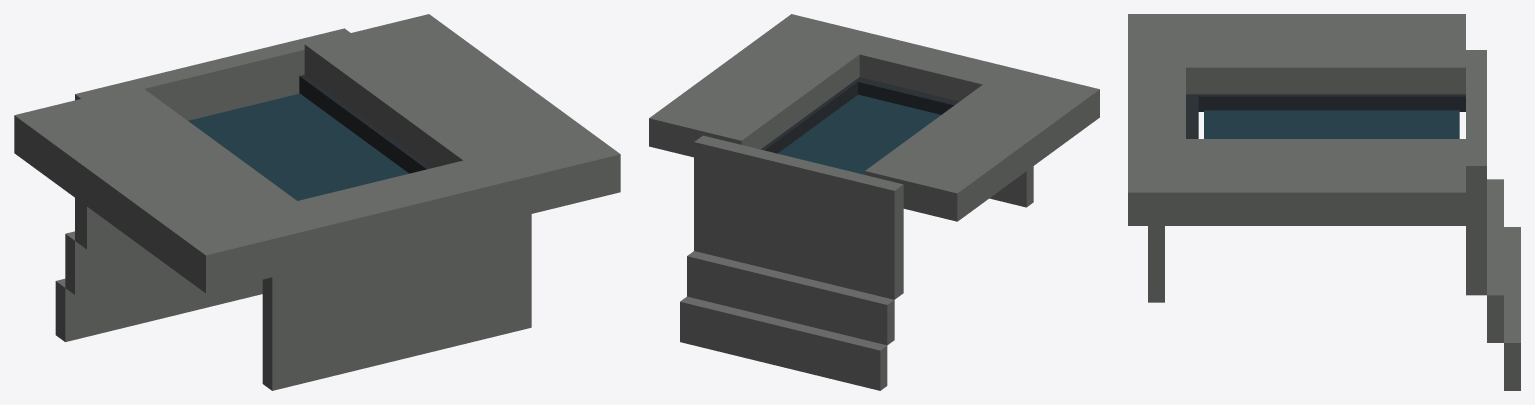
The model's file is PanelEntrance_LOD1.obj.
3 views of the same model, side by side, from view 1: azimuth 30°, elevation 25°; view 2: azimuth 150°, elevation 25°; view 3: azimuth 270°, elevation 25° (orthographic). The views are drawn at different scales.
Visible parts, largest first — view 1: wall_left, wall_right, canopy, door, lintel, landing, step2, step1, door_frame_right; view 2: landing, wall_left, wall_right, step2, step1, door, lintel, door_frame_top, door_frame_right, canopy; view 3: wall_right, wall_left, door, landing, door_frame_left, lintel, step1, step2, canopy, door_frame_top.
Boxes of the visible parts, x1,y1,x2,y2 form: wall_left: [14, 85, 330, 293]; wall_right: [304, 14, 620, 222]; canopy: [262, 214, 531, 390]; door: [188, 93, 408, 200]; lintel: [298, 160, 496, 262]; landing: [75, 28, 350, 249]; step2: [55, 270, 262, 341]; step1: [65, 231, 173, 294]; door_frame_right: [299, 75, 431, 173]; landing: [694, 135, 903, 299]; wall_left: [865, 66, 1099, 221]; wall_right: [649, 14, 883, 157]; step2: [680, 296, 887, 390]; step1: [687, 251, 894, 345]; door: [778, 94, 940, 174]; lintel: [859, 36, 1006, 101]; door_frame_top: [858, 78, 959, 114]; door_frame_right: [761, 77, 862, 153]; canopy: [989, 166, 1033, 207]; wall_right: [1128, 139, 1465, 225]; wall_left: [1128, 14, 1465, 94]; door: [1204, 110, 1459, 138]; landing: [1466, 50, 1486, 295]; door_frame_left: [1186, 94, 1465, 111]; lintel: [1128, 67, 1185, 138]; step1: [1487, 179, 1503, 342]; step2: [1504, 227, 1520, 390]; canopy: [1148, 226, 1164, 302]; door_frame_top: [1186, 96, 1198, 138].
Bounding box in the file's own units: 4 × 2.4 × 3.72.
